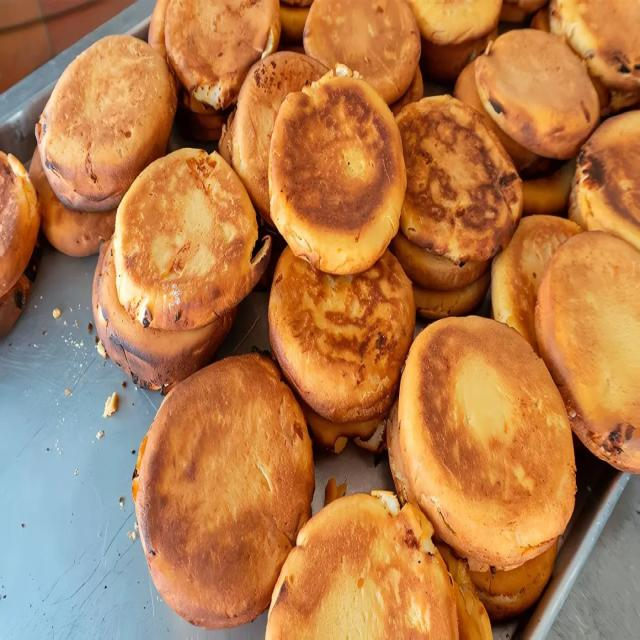arepa: (397, 312, 582, 578), (263, 57, 409, 279)
